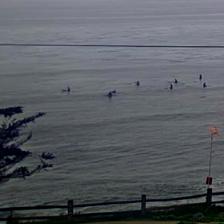surfer: (106, 91, 112, 98), (203, 82, 207, 88), (174, 78, 178, 84), (67, 86, 71, 92), (136, 81, 140, 86), (199, 74, 202, 80), (170, 84, 173, 90), (113, 90, 116, 92)
